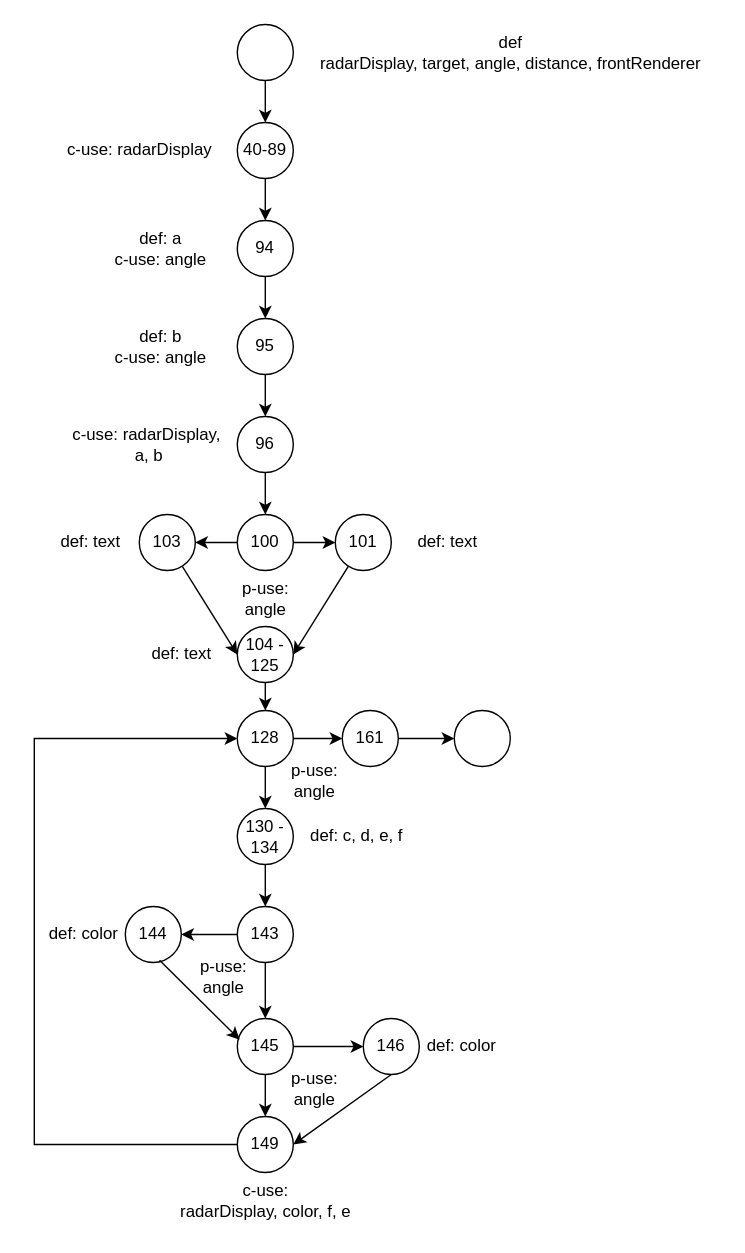
This 745x1253 diagram has some shape labels left out. The shapes that lost their labels are listed below. From the top down, each one's box as (x1, y1, x2, y2) in pixels, then its label:
(236, 23, 293, 80): in
(453, 709, 510, 766): out
